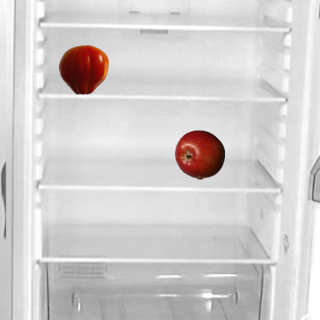Apple Braeburn: (174, 129, 224, 179)
Tomato 1: (58, 44, 108, 94)
